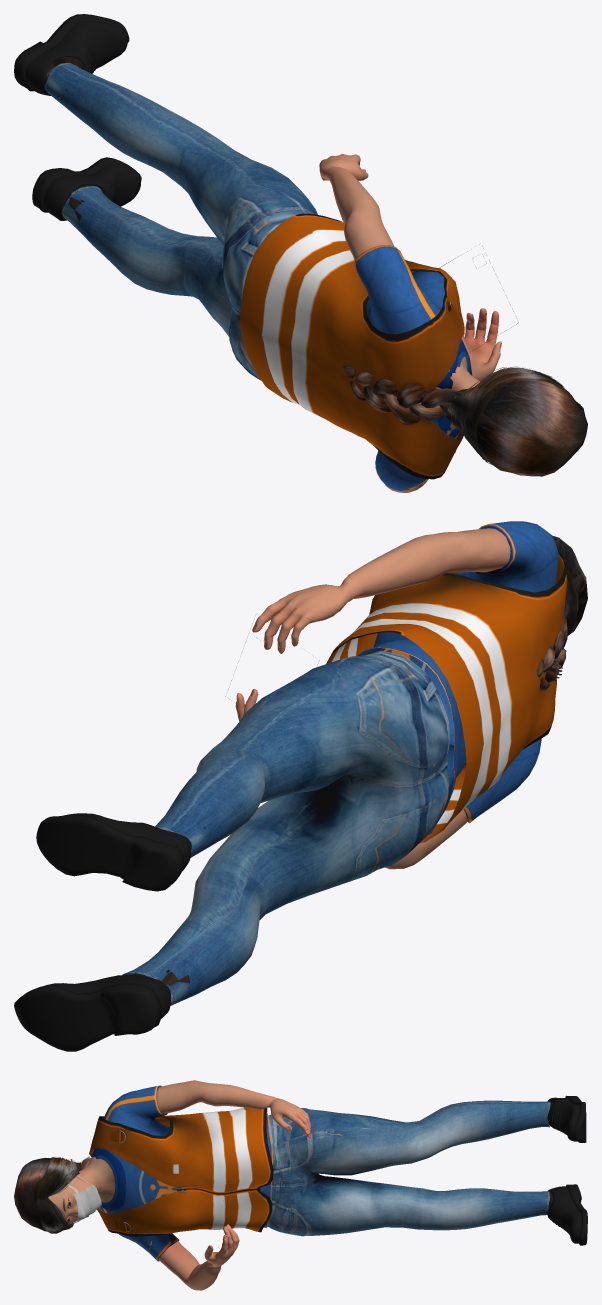
The model's file is worker_machine_inspect.obj.
3 renders of one model, top to bottom at view 1: azimuth 30°, elevation 25°; view 2: azimuth 150°, elevation 25°; view 3: azimuth 270°, elevation 25°, orthographic. The views are drawn at different scales.
Visible parts, largest first — view 1: worker_machine_inspect; view 2: worker_machine_inspect; view 3: worker_machine_inspect.
Part boxes in pixels (box(x1,y1,x2,y2)): worker_machine_inspect: box(14, 14, 587, 492); worker_machine_inspect: box(14, 521, 587, 1051); worker_machine_inspect: box(14, 1080, 587, 1290).
Bounding box in the file's own units: 0.5318 × 0.6218 × 1.67.
7 materials, 7 textured.
